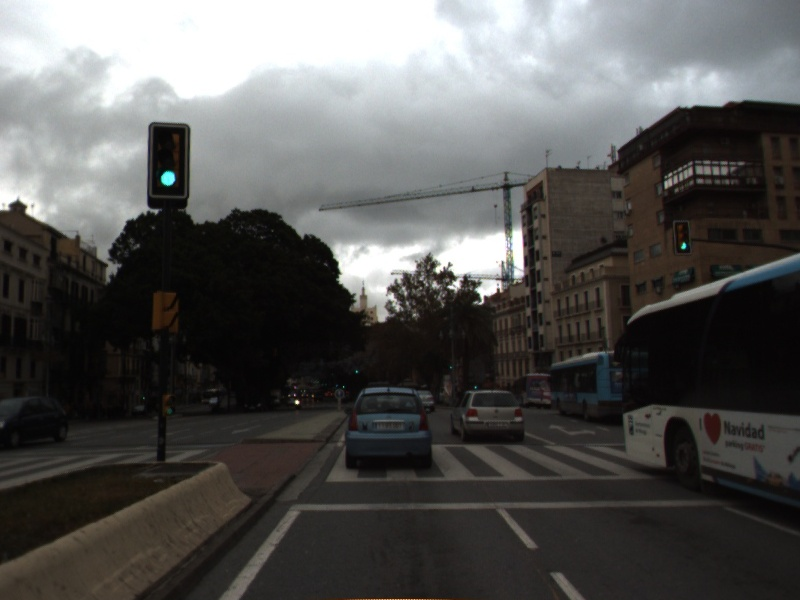STRAIGHT_RIGHT: (546, 421, 598, 438)
